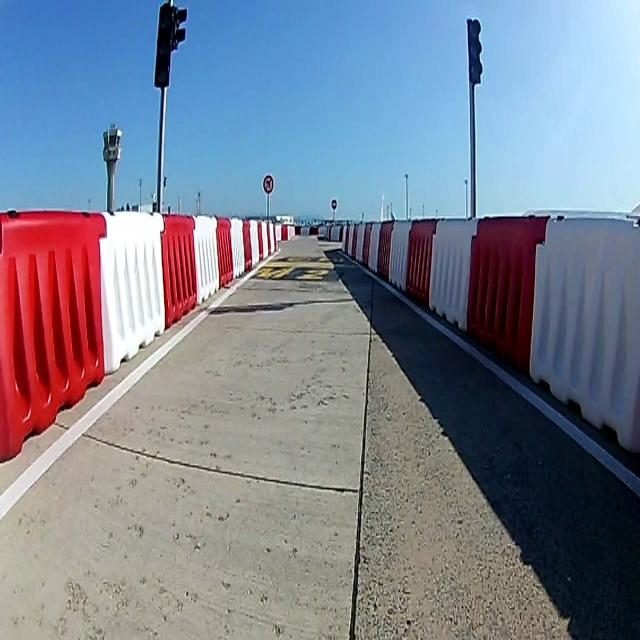soladonulmez: (264, 175, 274, 192)
